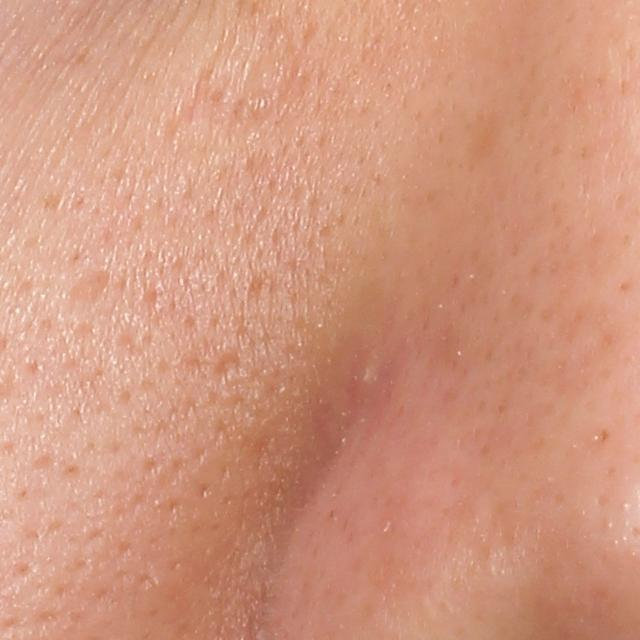atrophic_scar: (65, 267, 117, 312), (210, 348, 250, 385)
